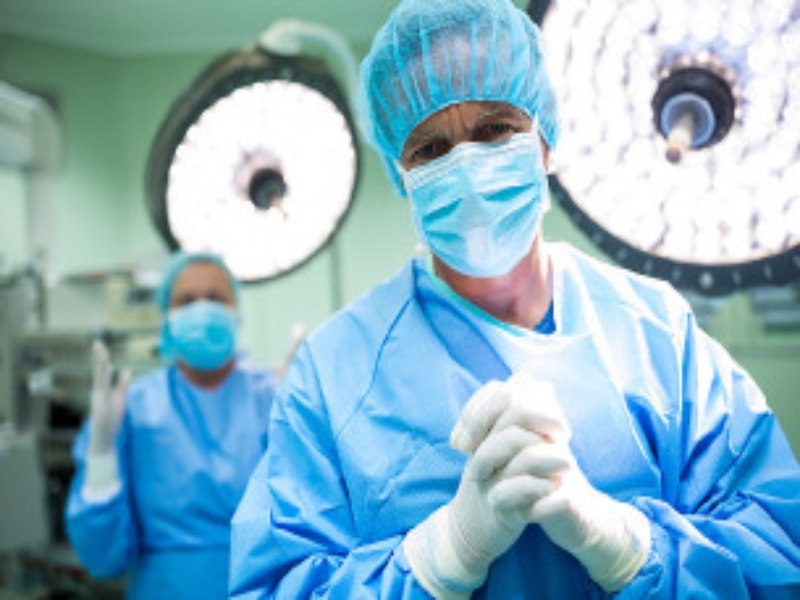mask: (343, 2, 573, 290), (149, 241, 249, 377)
